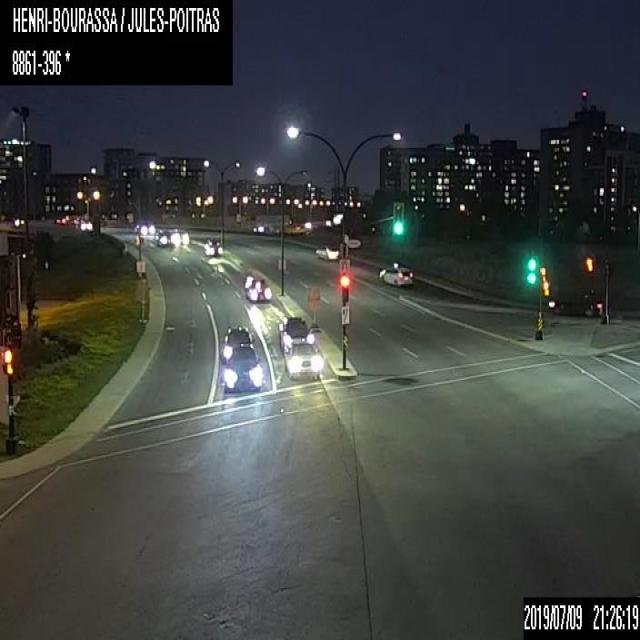vehicle: (221, 345, 261, 392), (284, 341, 322, 381), (547, 288, 602, 315), (279, 316, 314, 354), (222, 326, 254, 361), (379, 261, 413, 286), (245, 276, 270, 301), (203, 237, 222, 257), (169, 227, 189, 245), (154, 229, 176, 245), (315, 245, 338, 259), (136, 221, 154, 234)
